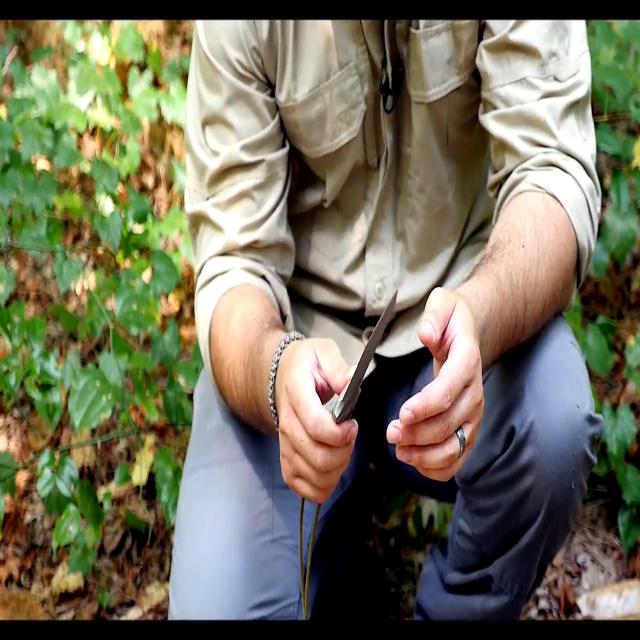knife: (332, 287, 401, 430)
